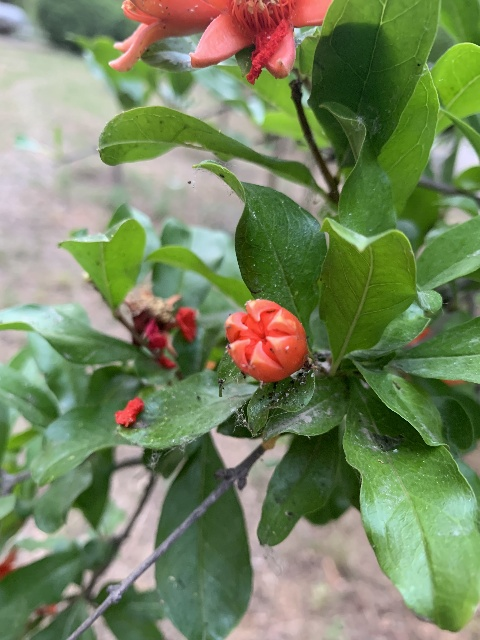flower: (189, 0, 337, 83), (107, 0, 222, 72), (224, 299, 307, 381)
